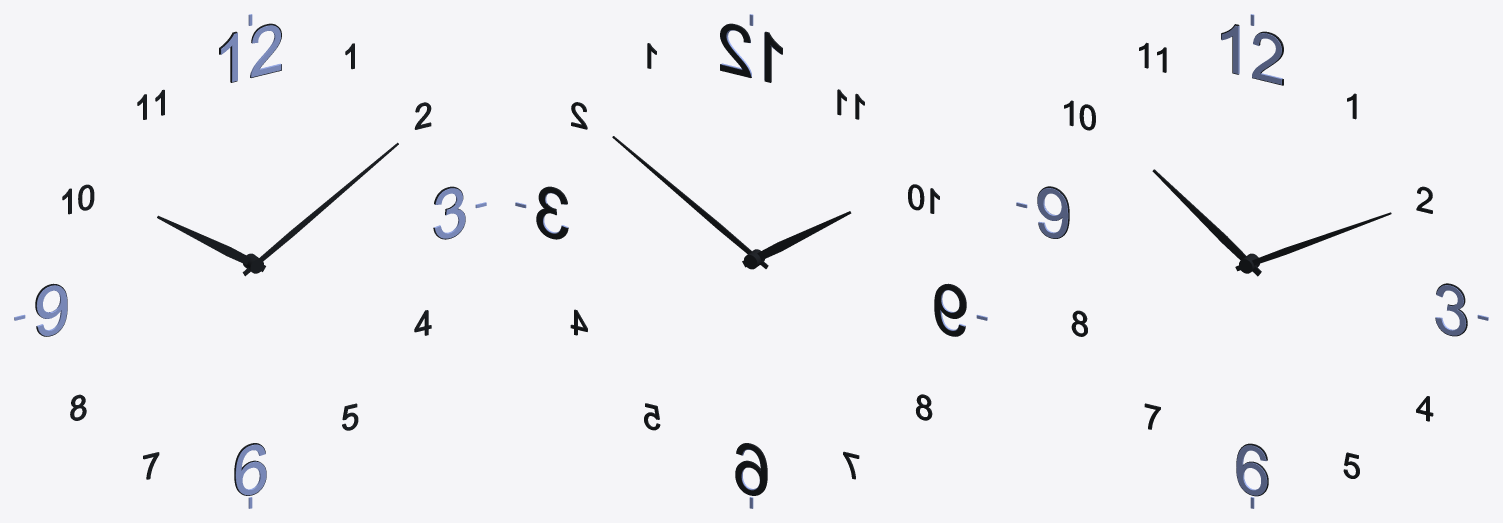
Rendered from wallClock-5.glb.
The picture shows the model from 3 angles, left to right: view 1: azimuth 30°, elevation 25°; view 2: azimuth 150°, elevation 25°; view 3: azimuth 330°, elevation 25°; orthographic projection.
Parts seen in each view (by area): view 1: Clock_EDS_lavender, Clock_graphite, Clock_minute_hand_blade, Clock_hour_hand_blade; view 2: Clock_graphite, Clock_minute_hand_blade, Clock_EDS_lavender, Clock_hour_hand_blade; view 3: Clock_EDS_lavender, Clock_graphite, Clock_hour_hand_blade, Clock_minute_hand_blade.
Boxes of the visible parts, x1,y1,x2,y2 form: Clock_EDS_lavender: [14, 14, 486, 508]; Clock_graphite: [35, 23, 465, 495]; Clock_minute_hand_blade: [242, 142, 398, 276]; Clock_hour_hand_blade: [157, 215, 265, 271]; Clock_graphite: [536, 23, 966, 495]; Clock_minute_hand_blade: [612, 136, 768, 268]; Clock_EDS_lavender: [515, 14, 987, 508]; Clock_hour_hand_blade: [742, 211, 851, 267]; Clock_EDS_lavender: [1016, 14, 1488, 508]; Clock_graphite: [1037, 24, 1467, 496]; Clock_hour_hand_blade: [1152, 169, 1261, 276]; Clock_minute_hand_blade: [1235, 212, 1391, 271].
Size of the model in its own units: 1.25 by 1.25 by 0.035.
